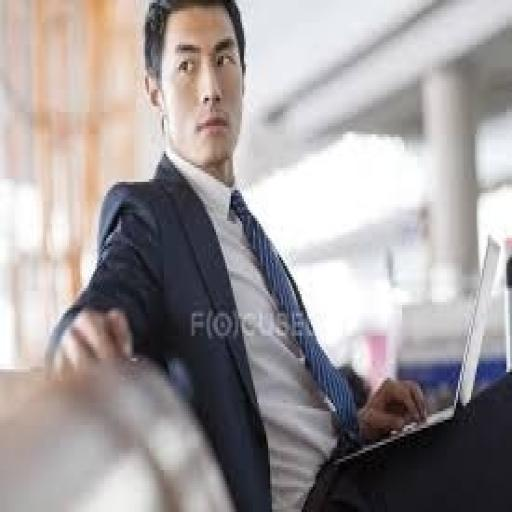sitting: (41, 0, 510, 509), (0, 347, 240, 509)
